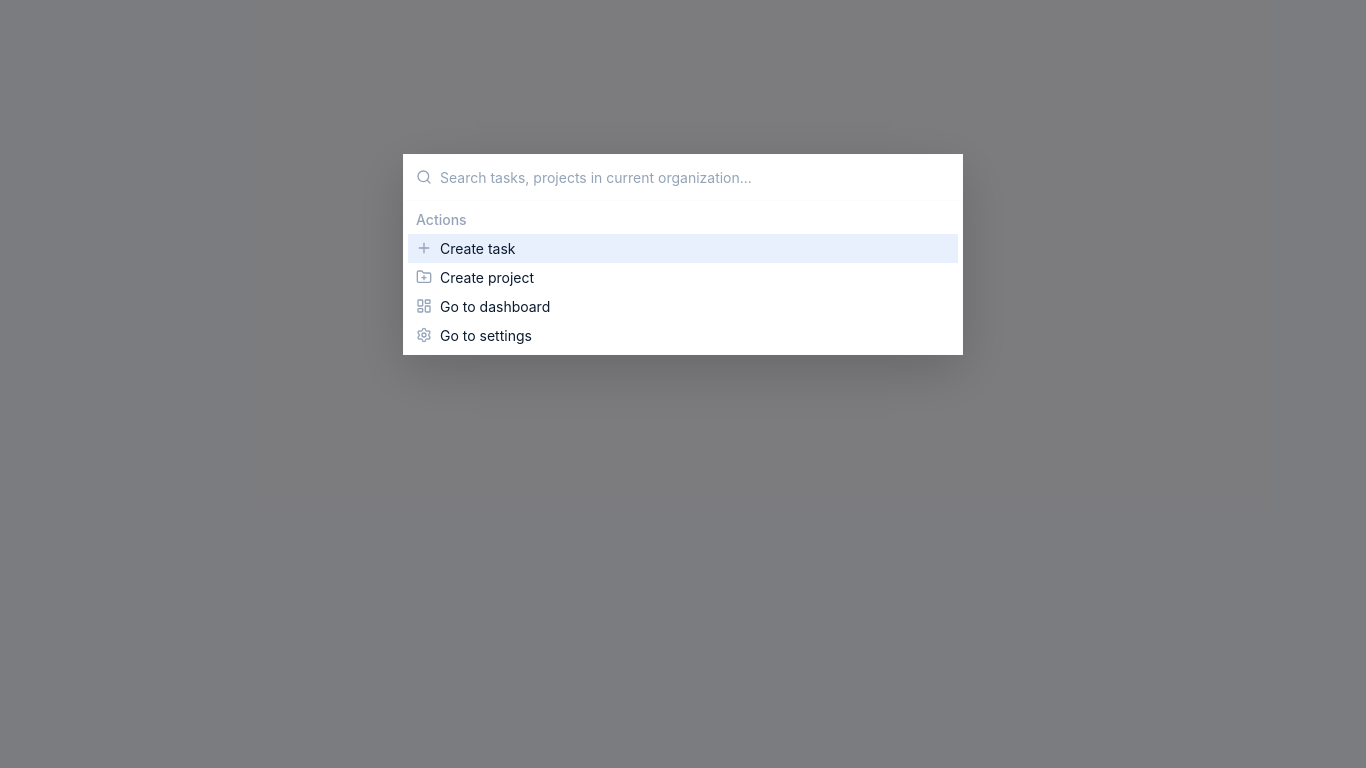
Scenario: CommandPalette search results › shows empty state message when search returns no results
Step 1. Type "zzz" into the dropdown → (695, 177), box [440, 155, 950, 200]
Wait 200 ms
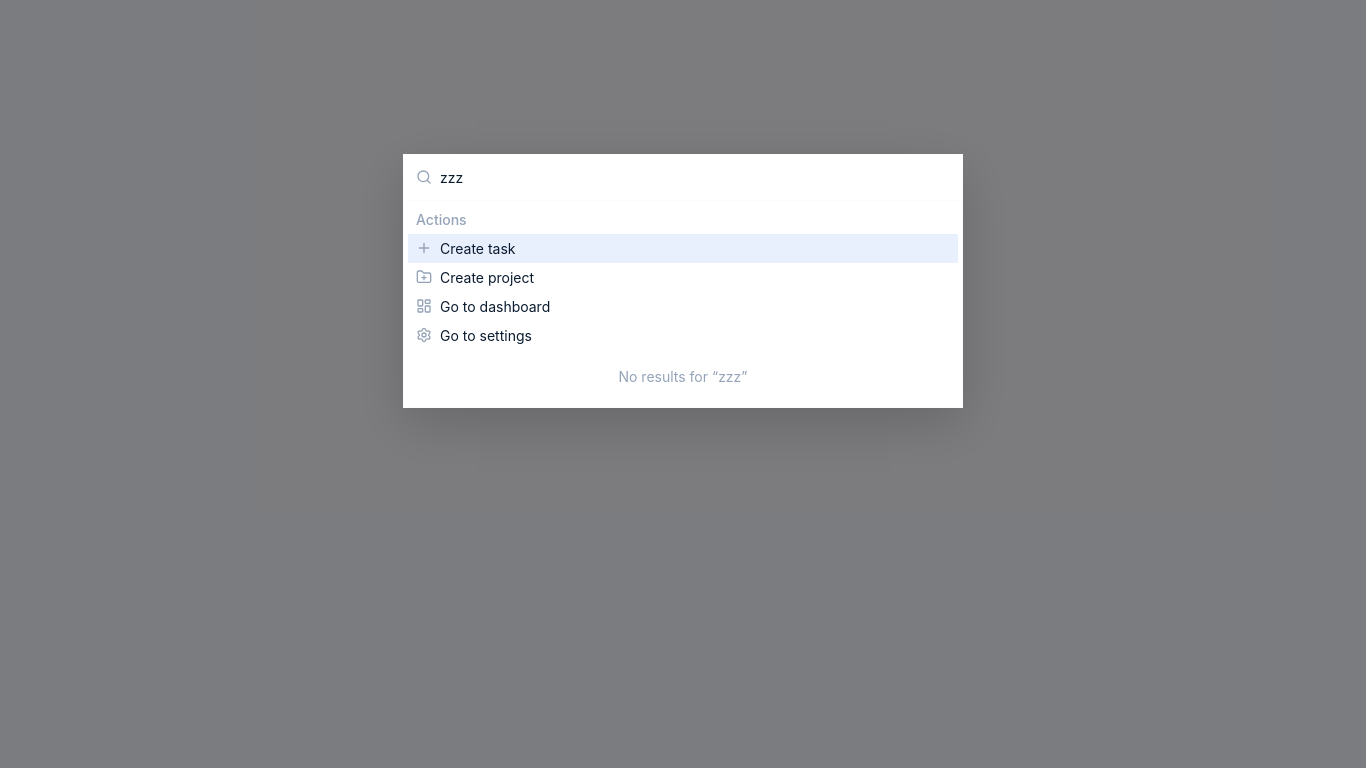
Check: the text "No results for “zzz”" is shown, box [618, 368, 748, 385]
